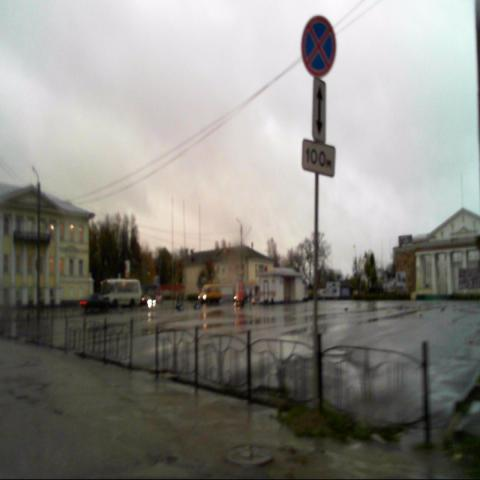8_1_1: (300, 139, 336, 179)
